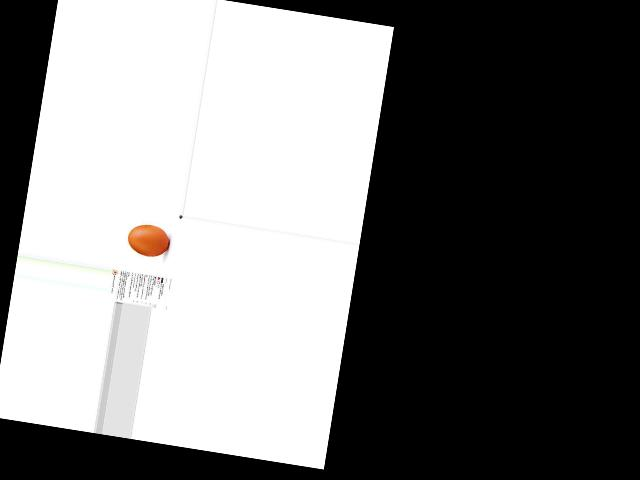egg: (126, 222, 171, 259)
